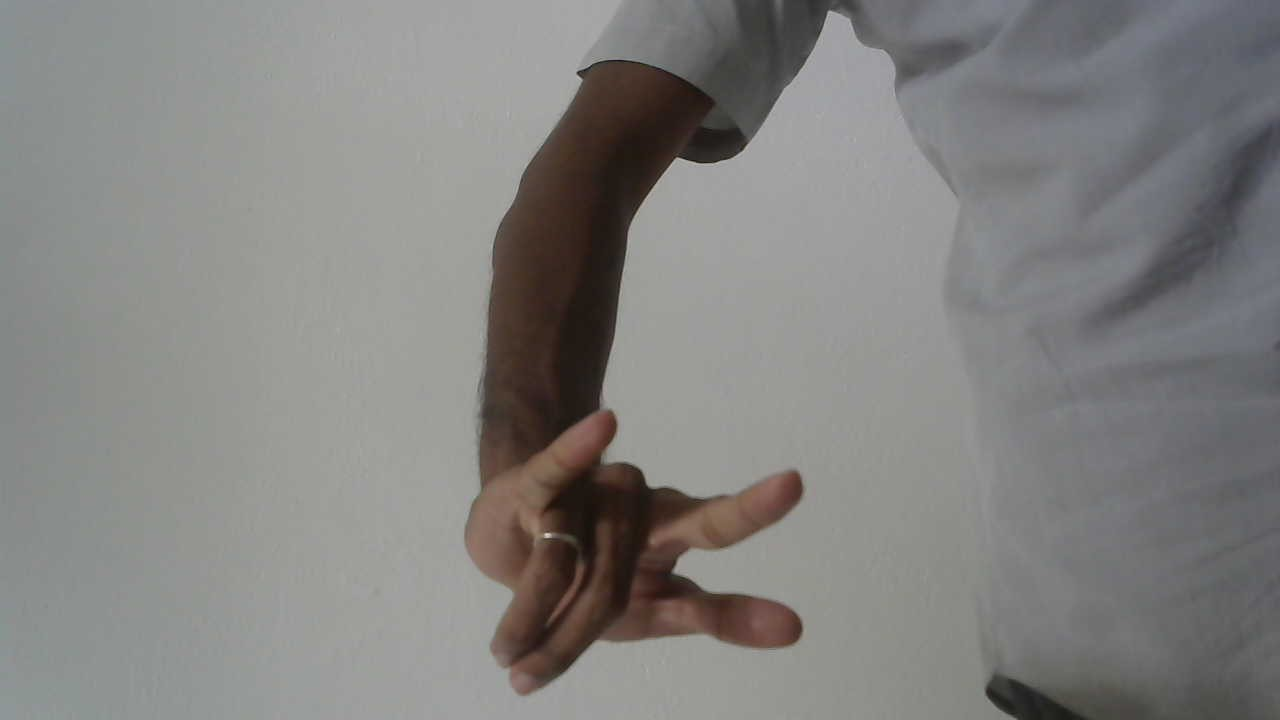iloveyou: (459, 406, 812, 700)
